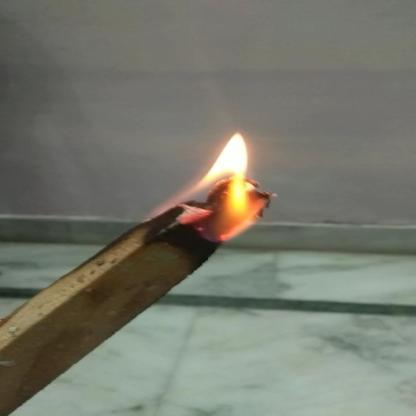fire: (148, 128, 291, 242)
